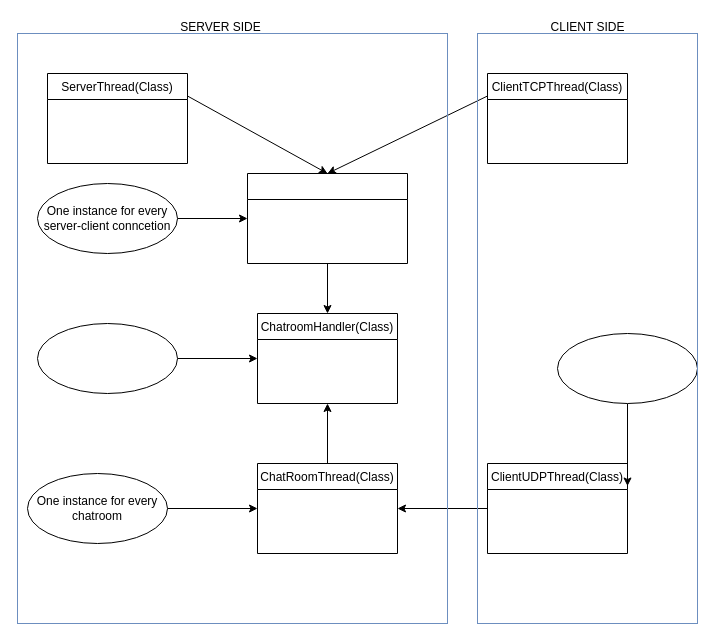
Some shapes in this 715 by 641 pixel diagram are drawn without their labels. The centre of each missing label's shape, as x and y in pixels:
"ConncetionHandler(Class)" belongs at pixel 327 218.
"One instance for every chat" belongs at pixel 627 368.
"One instance public static" belongs at pixel 107 358.
